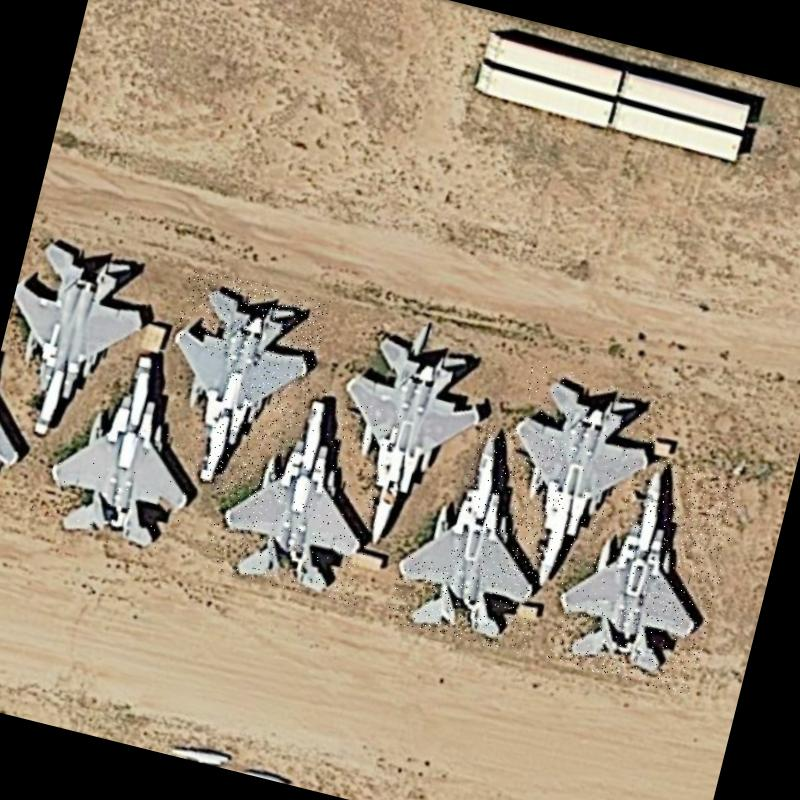A13: (21, 320, 230, 564), (544, 443, 744, 696), (477, 358, 671, 610), (310, 311, 500, 564), (202, 371, 403, 606), (385, 412, 575, 656), (140, 266, 331, 507), (0, 211, 176, 459)
